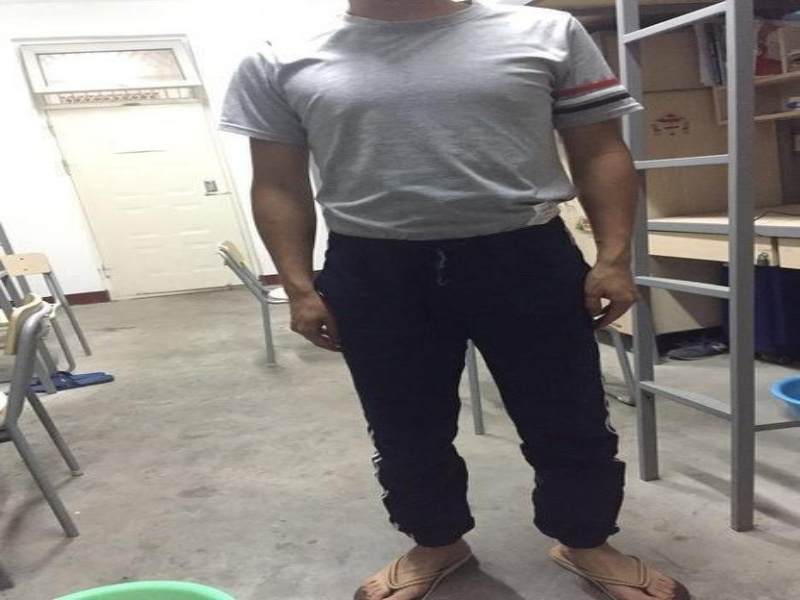short_sleeved_shirt: (214, 0, 650, 247)
trousers: (311, 212, 631, 553)
